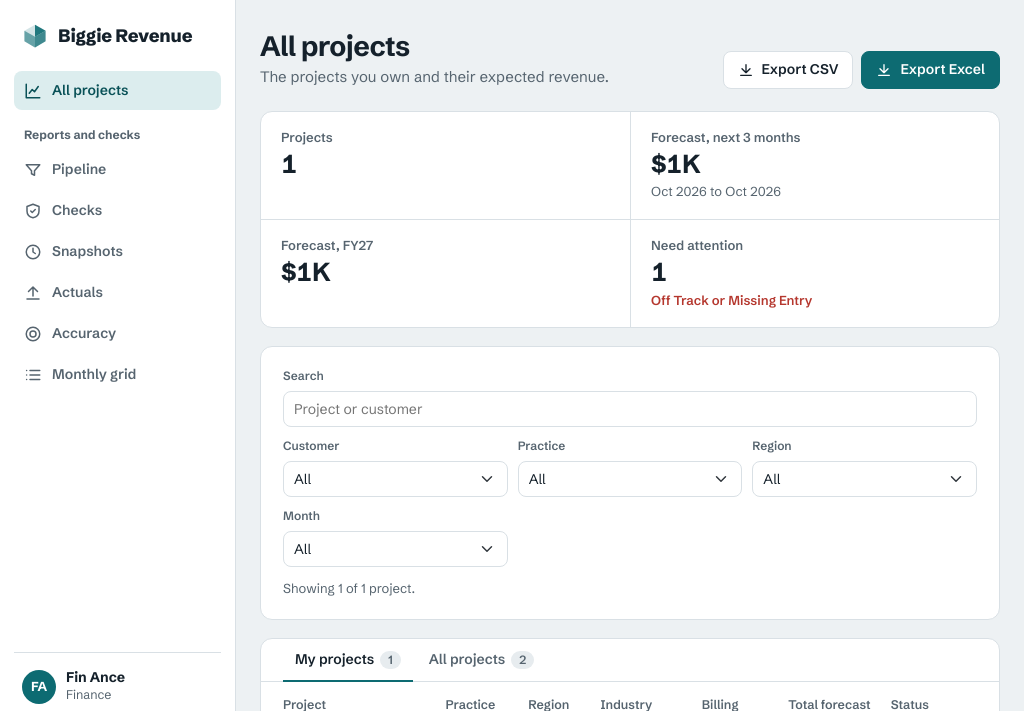
Test: Snapshots › takes a snapshot with a note, using the CSRF token, and opens it
This screenshot has width=1024, height=711.
Click the button "Snapshots". click: (118, 252)
box: [14,232,221,271]
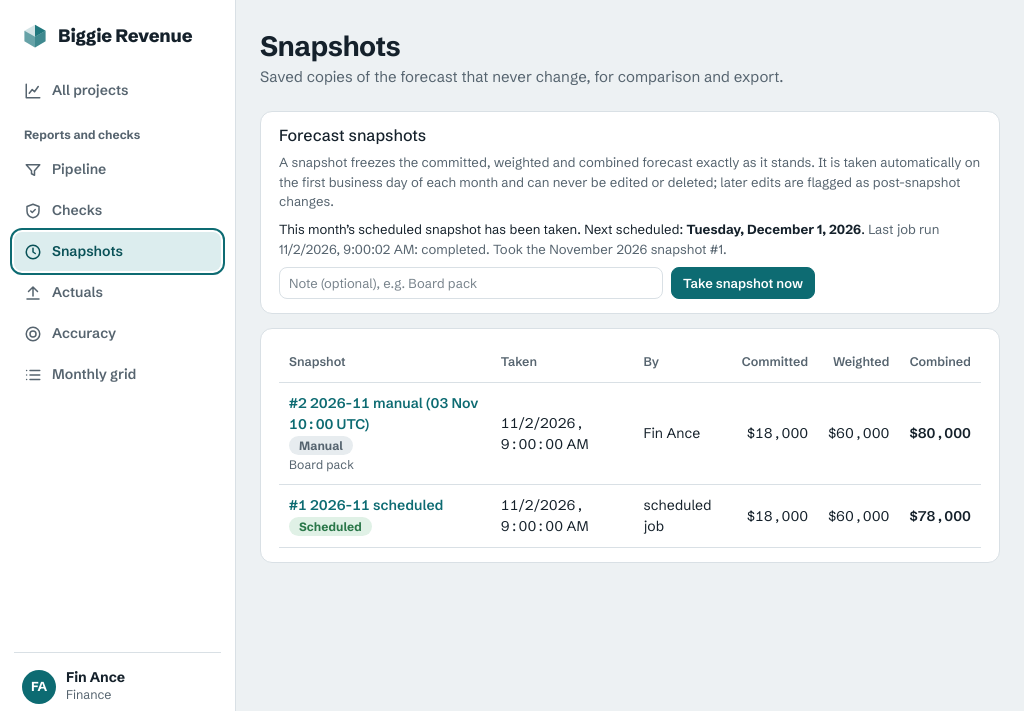
Type "Month end" into the field named "Snapshot note". click: (471, 283)
box: [279,267,663,299]
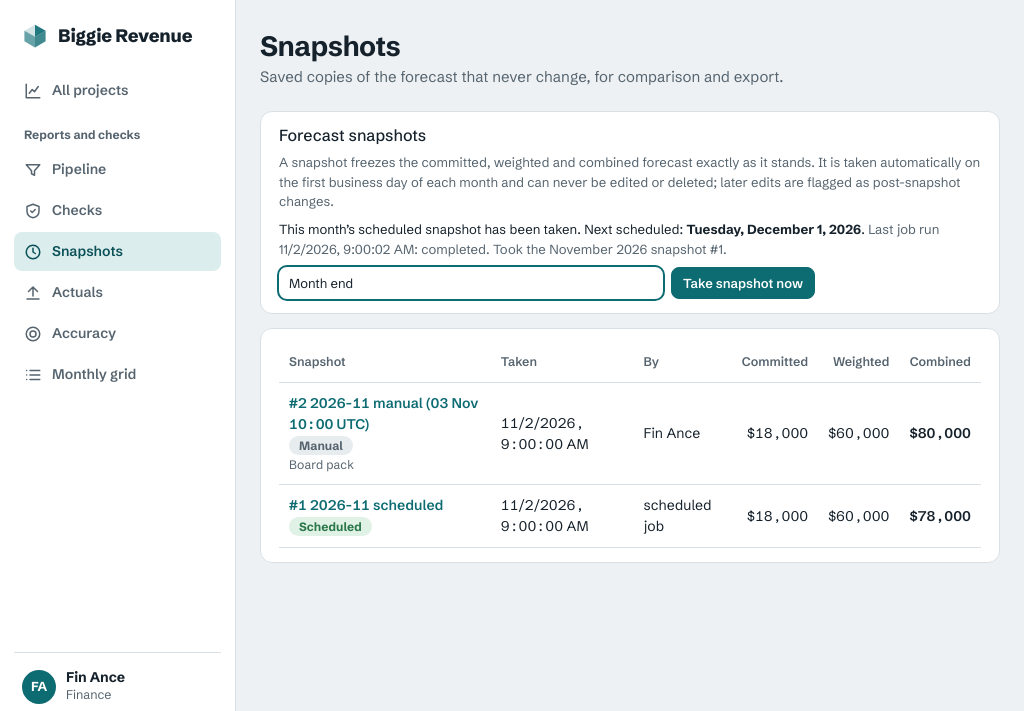
Click the button "Take snapshot now". click: (743, 283)
box: [671,267,815,299]
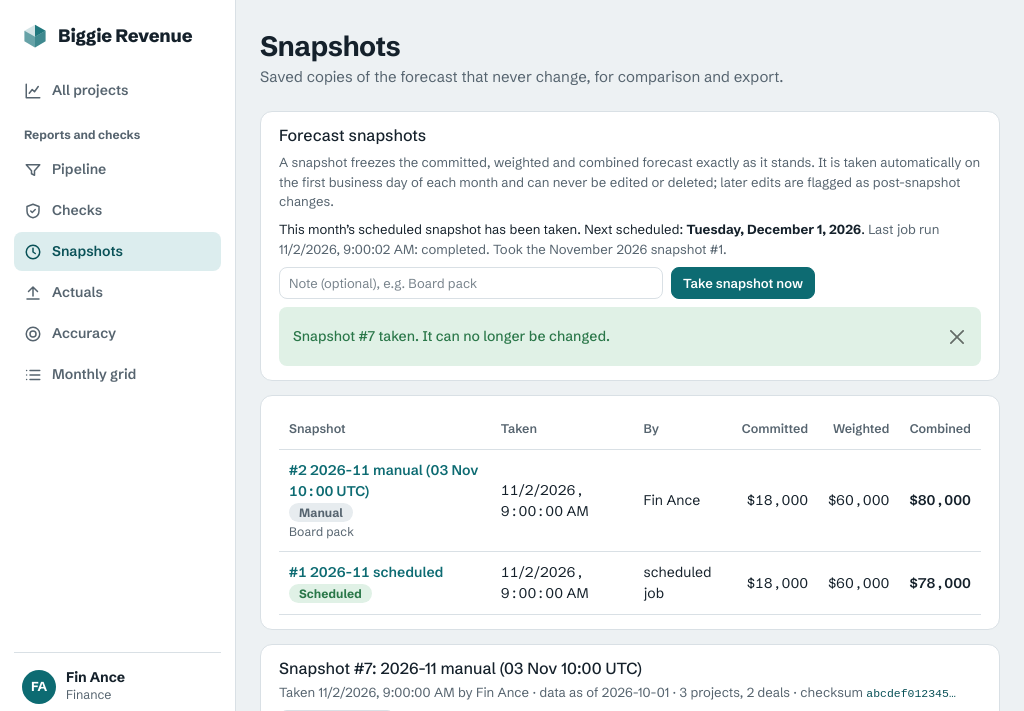
Expected: the text "Snapshot #7 taken. It can no longer be changed." is shown, [293,326,610,347]
Expected: the heading "Snapshot #7: 2026-11 manual (03 Nov 10:00 UTC)" is shown, [279,658,642,678]
